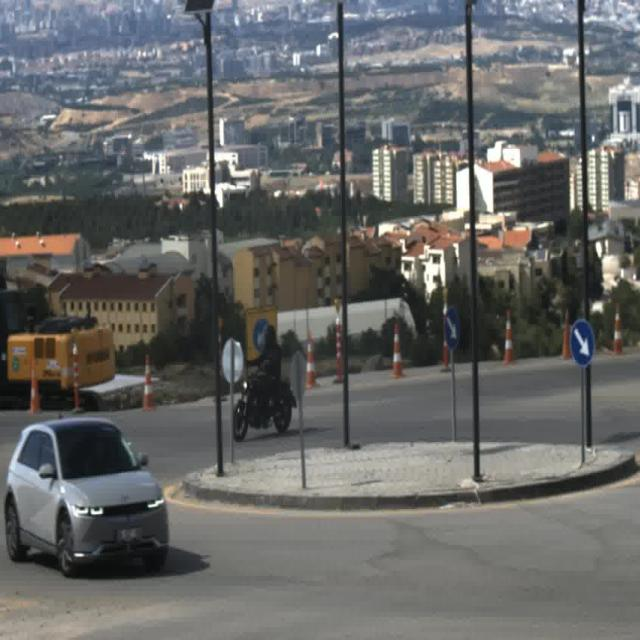Car: (4, 415, 170, 576)
Motorcycle: (232, 326, 297, 436)
